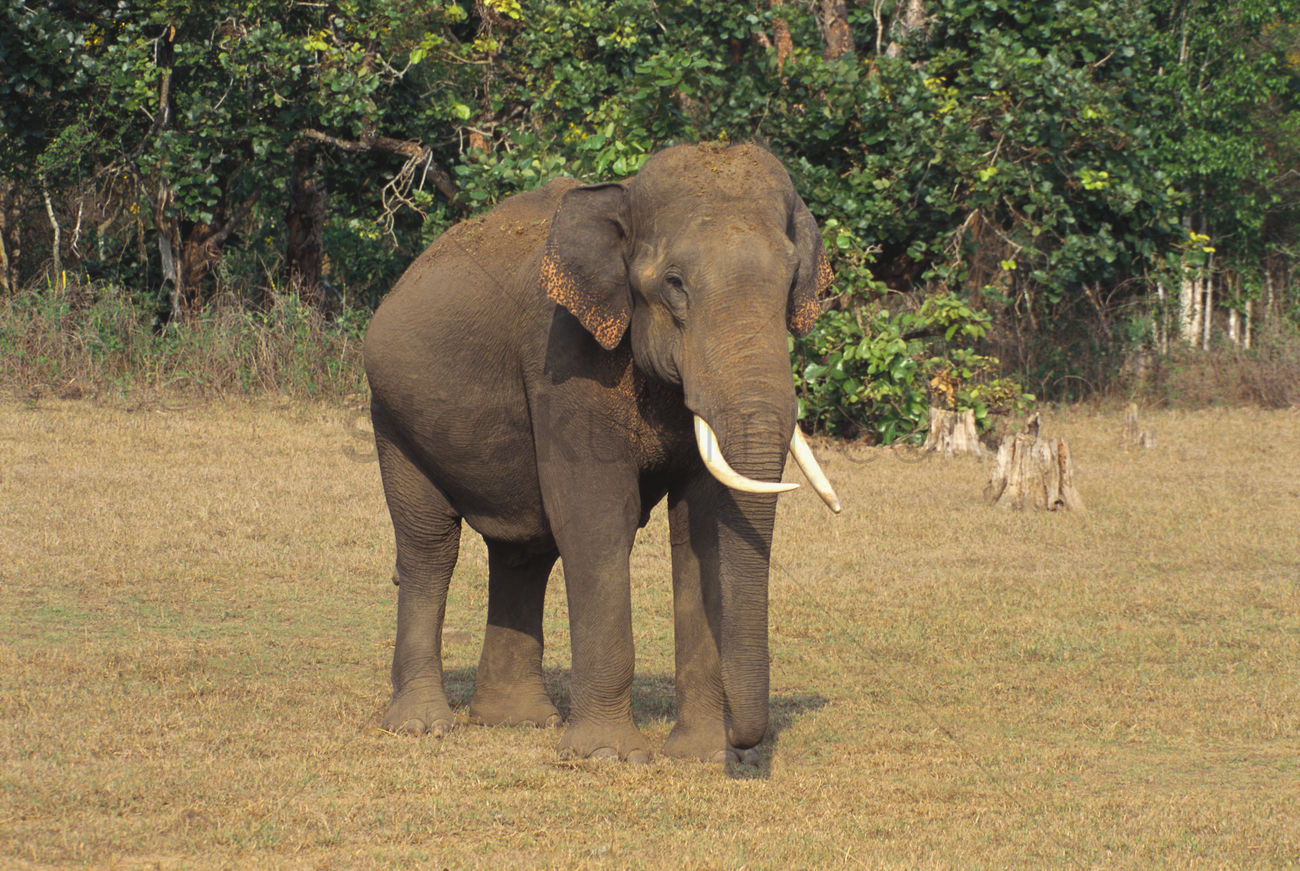Indian Elephant: (323, 120, 870, 810)
